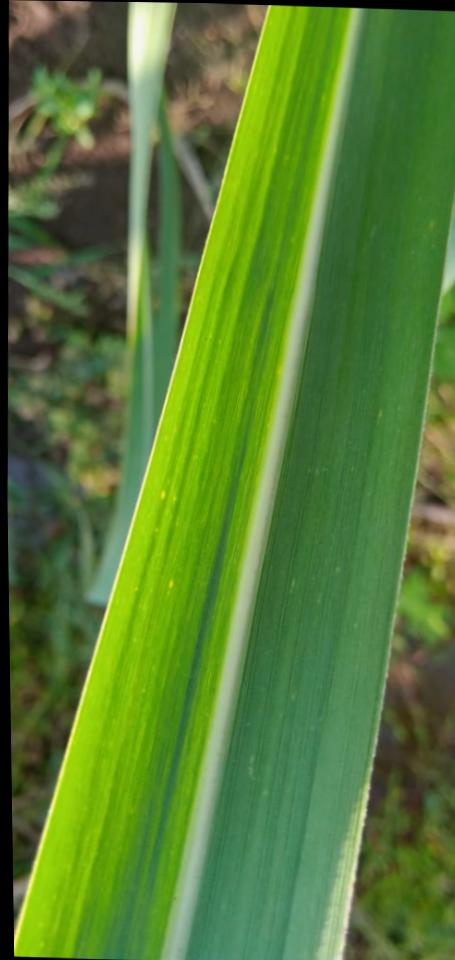Healthy: (14, 6, 455, 960)
